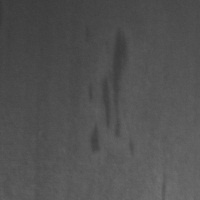inclusion: (82, 26, 132, 157), (85, 119, 104, 160), (157, 174, 169, 199)
